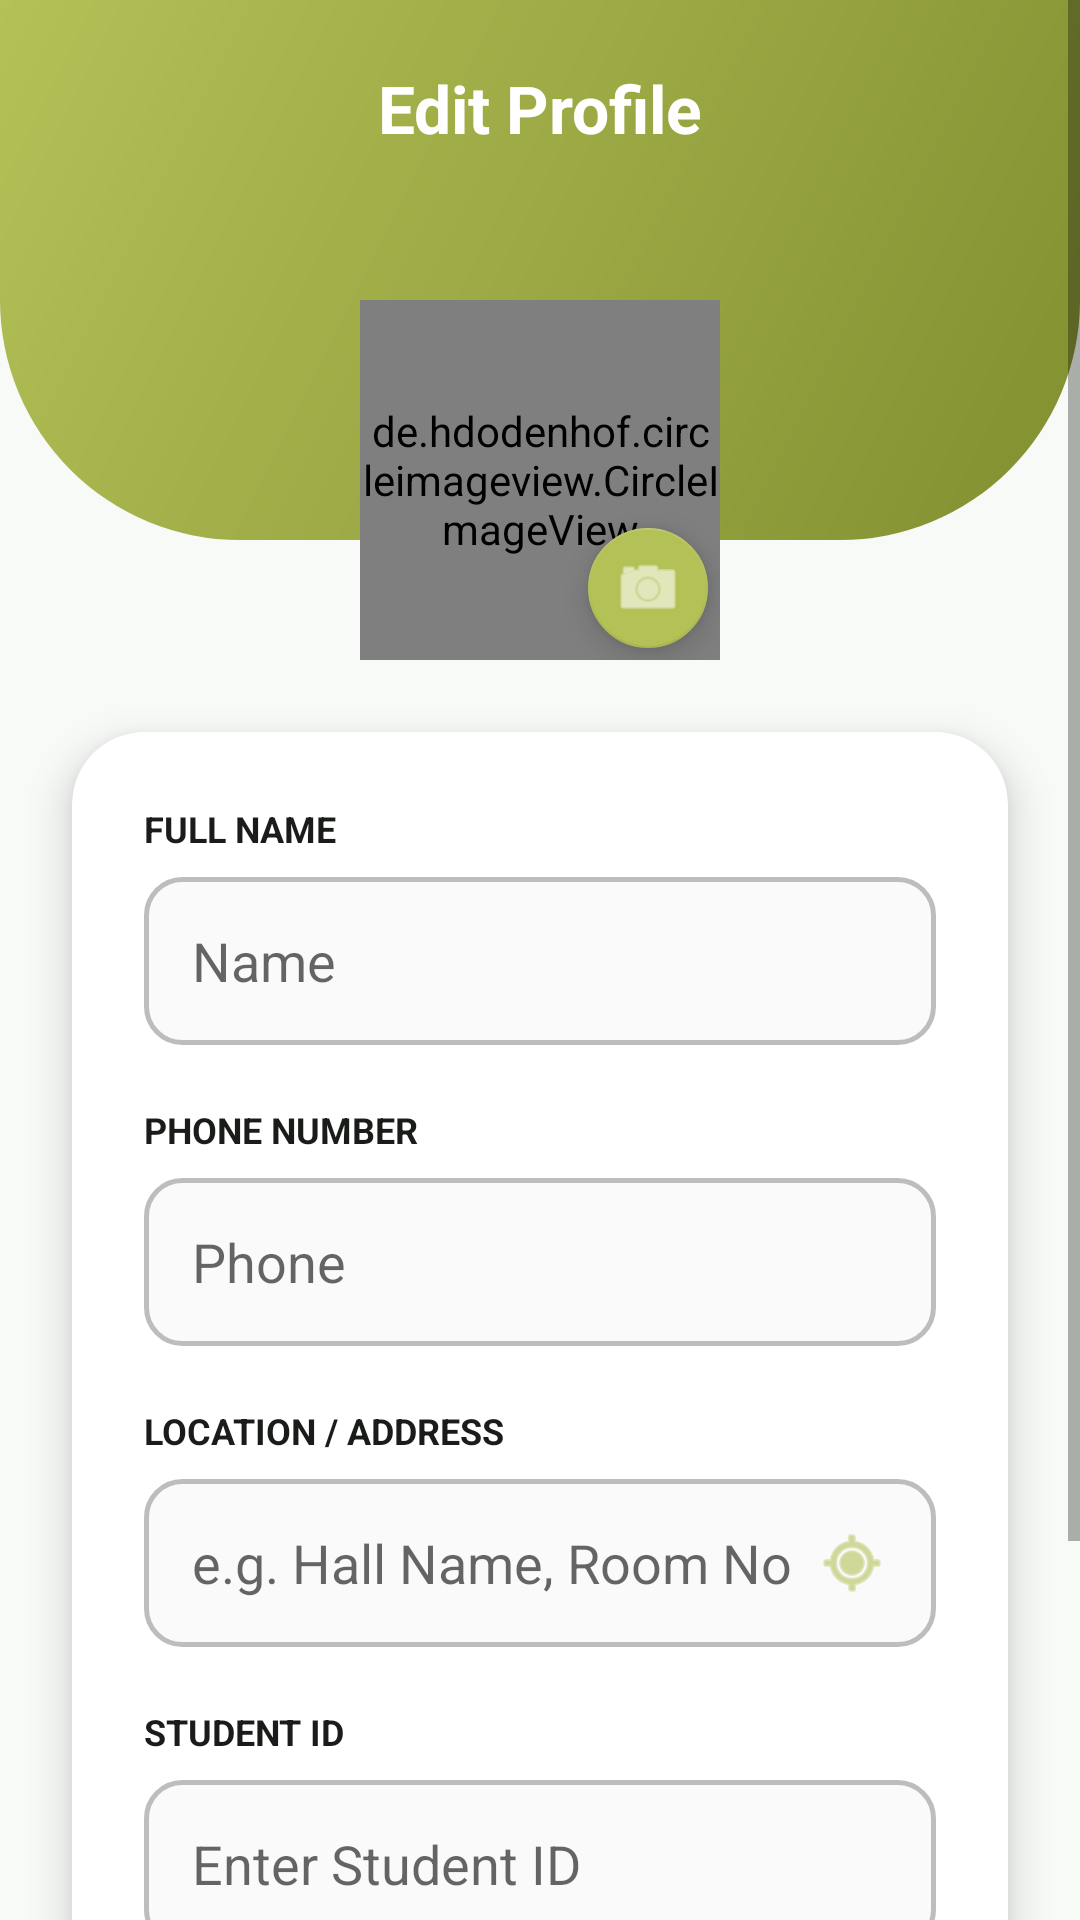

Locate icon controls on the screen. Image size 1080px x 1920px, boxes as (x1, y1, x2, y2).
camera: (578, 516, 708, 648)
mylocation: (823, 1534, 881, 1592)
